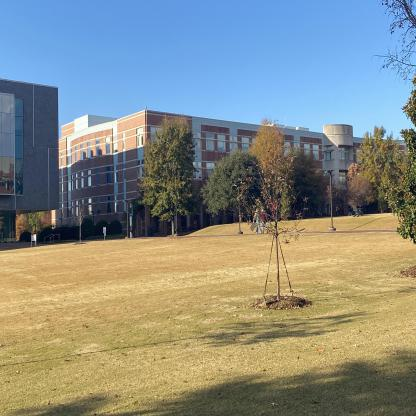EB-1: (58, 109, 415, 234)
